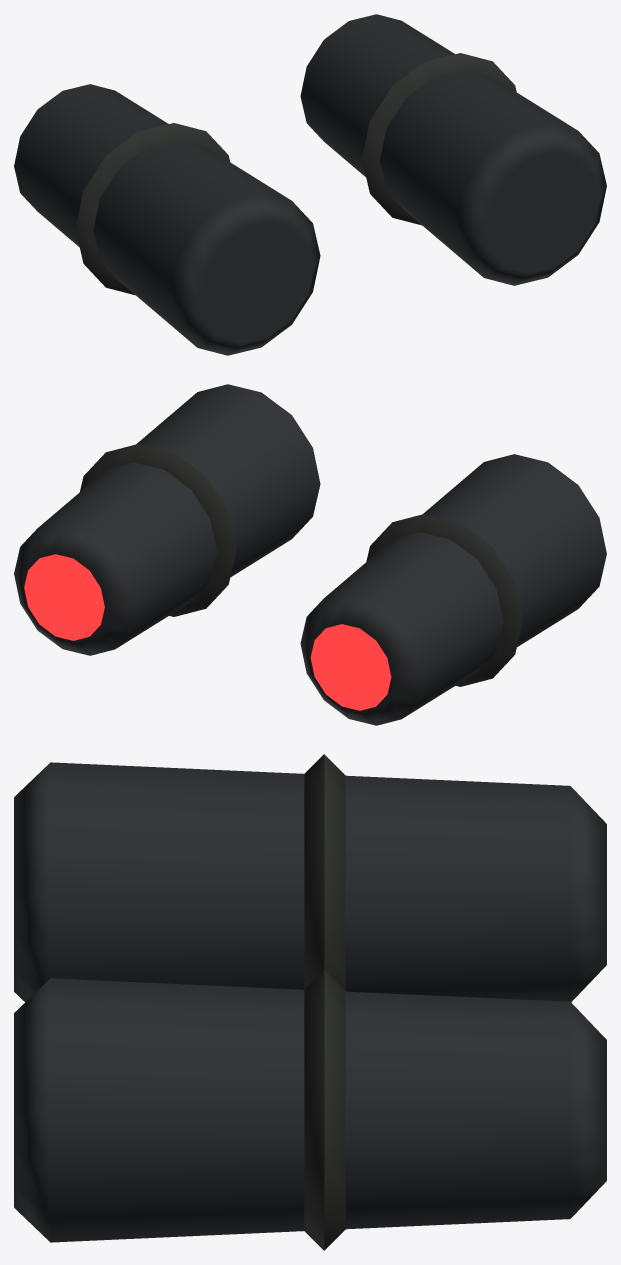
File: Engine_Boost.fbx
3 renders of one model, top to bottom at view 1: azimuth 30°, elevation 25°; view 2: azimuth 150°, elevation 25°; view 3: azimuth 270°, elevation 25°, orthographic. The views are drawn at different scales.
Parts seen in each view (by area): view 1: Engine_Boost; view 2: Engine_Boost; view 3: Engine_Boost.
Part boxes in pixels (x1,y1,x2,y2): Engine_Boost: (14, 14, 606, 355); Engine_Boost: (14, 384, 606, 725); Engine_Boost: (14, 754, 606, 1250).
Bounding box in the file's own units: 0.875 × 0.3071 × 0.65.
